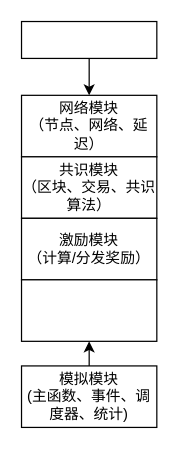
Some shapes in this 178 by 449 pixel diagram are drawn without their labels. Each missing label, with the centre of its shape:
"通信模块 （http请求）" belongs at (x=88, y=310).
"配置模块" belongs at (x=88, y=39).
